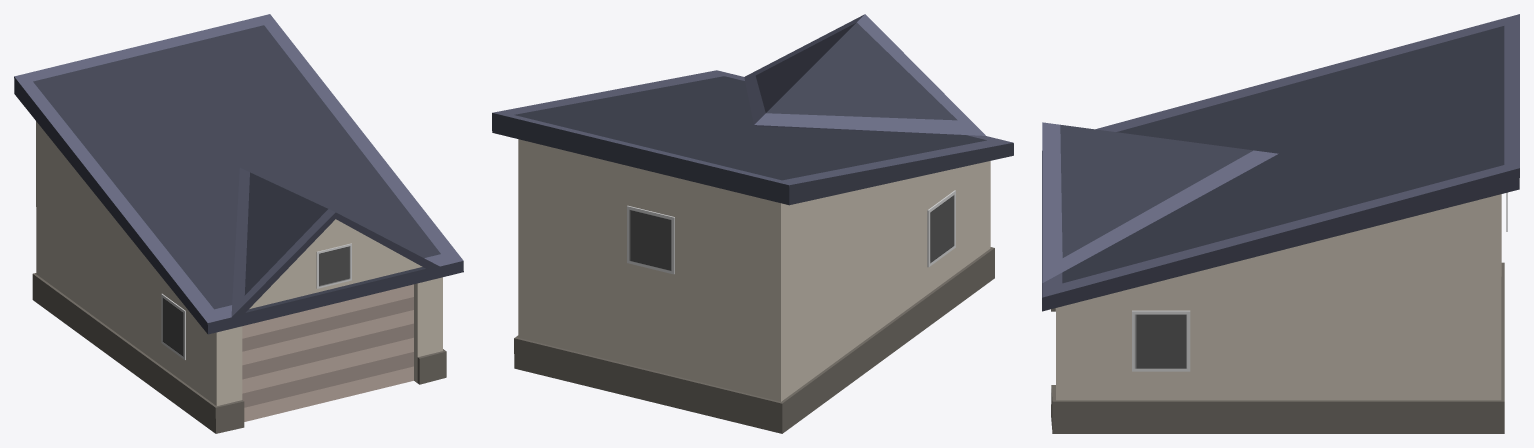
Rendered from garage02_color02.fbx.
The picture shows the model from 3 angles, left to right: view 1: azimuth 30°, elevation 25°; view 2: azimuth 150°, elevation 25°; view 3: azimuth 270°, elevation 25°; orthographic projection. The views are drawn at different scales.
Parts seen in each view (by area): view 1: garage02_color02; view 2: garage02_color02; view 3: garage02_color02.
Part boxes in pixels (<box>): garage02_color02: <box>14,14,463,433</box>; garage02_color02: <box>492,14,1013,433</box>; garage02_color02: <box>1042,14,1519,433</box>.
Size of the model in its own units: 847 by 701 by 1110.
